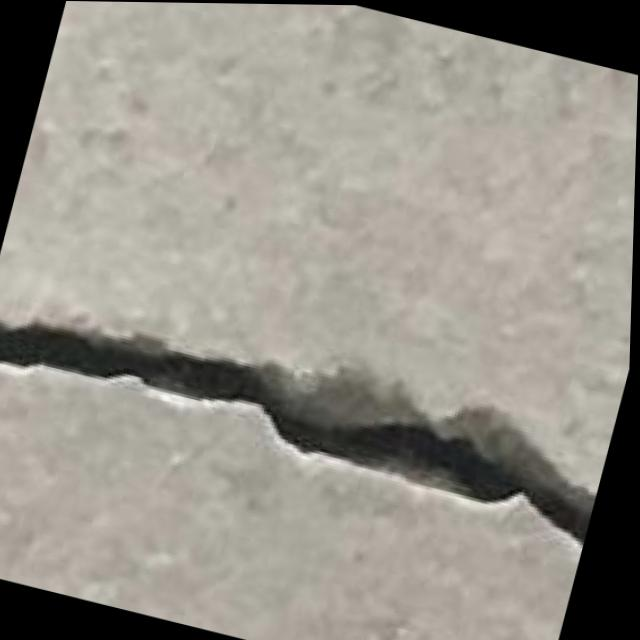Crack: (0, 260, 620, 581)
